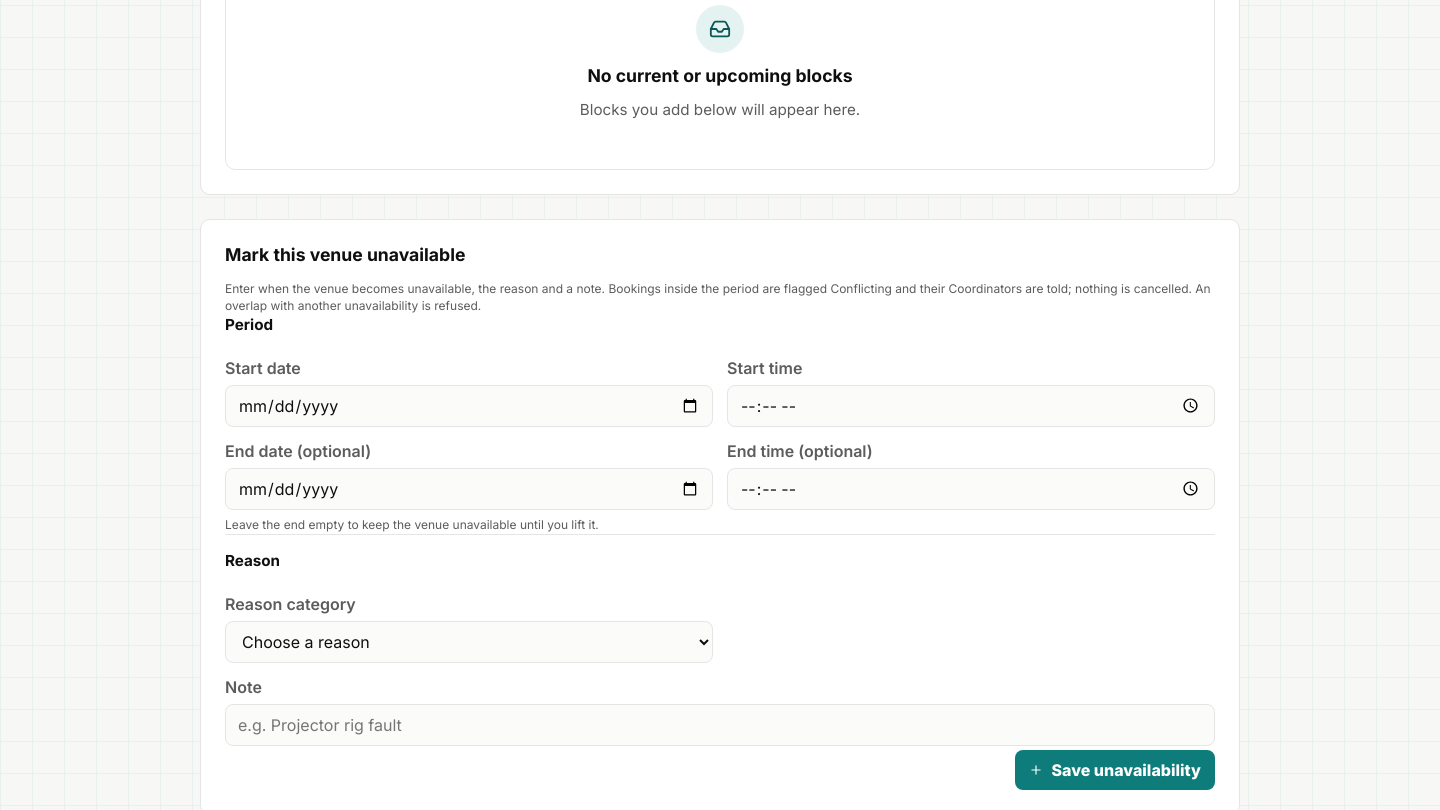
it: TC_E05S04_03 - the success alert shows which affected events had their Coordinator notified (Scenario 3)
(page scrolled)
Expected: the text "No current or upcoming blocks" is shown, [587,65,853,86]
Type "2027-01-20" into the date field labelled "Start date".
click(469, 406); type("2027-01-20")  # box [225,385,713,427]
Type "00:00" into the time field labelled "Start time".
click(971, 406); type("00:00")  # box [727,385,1215,427]
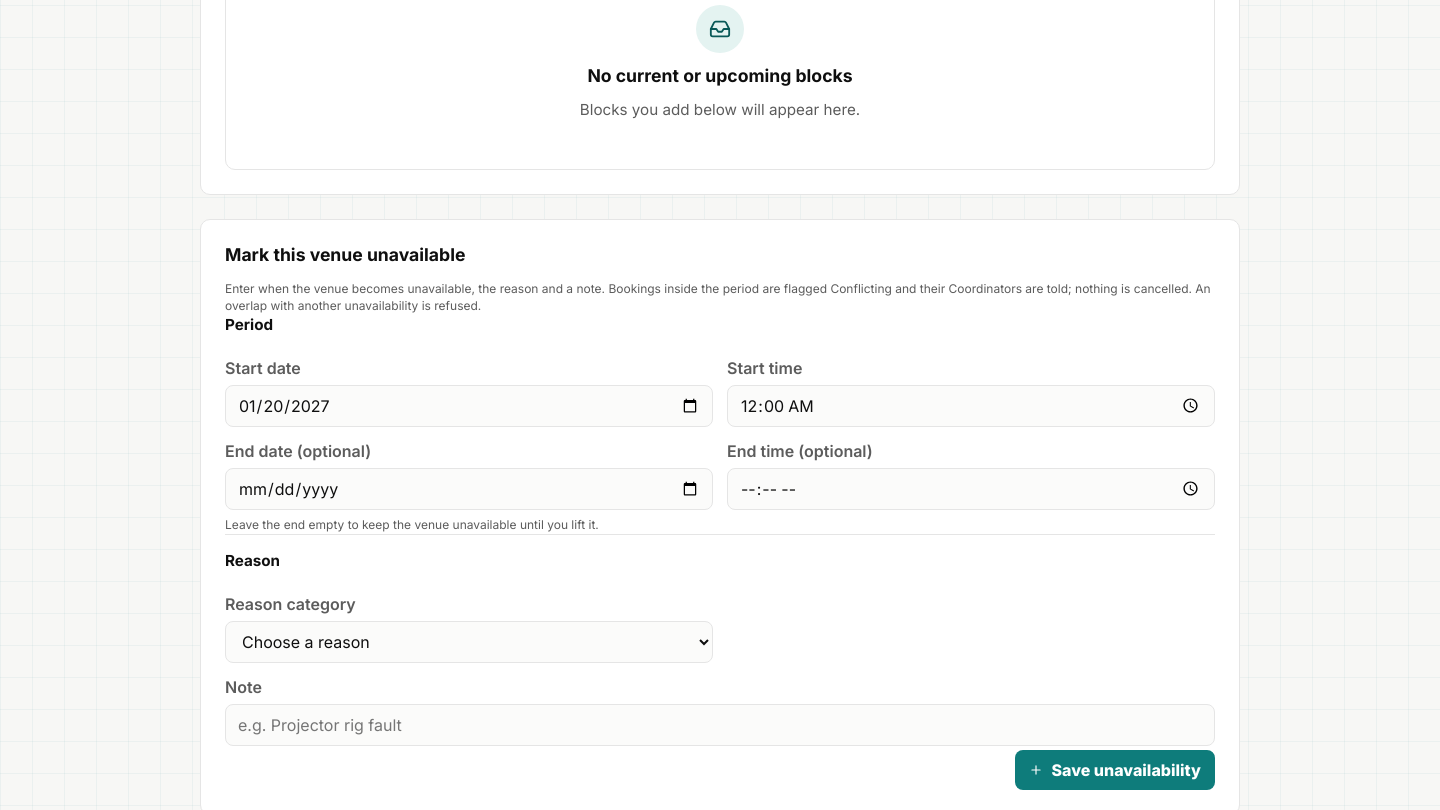
Type "2027-01-26" into the date field labelled "End date (optional)".
click(469, 489); type("2027-01-26")  # box [225,468,713,510]
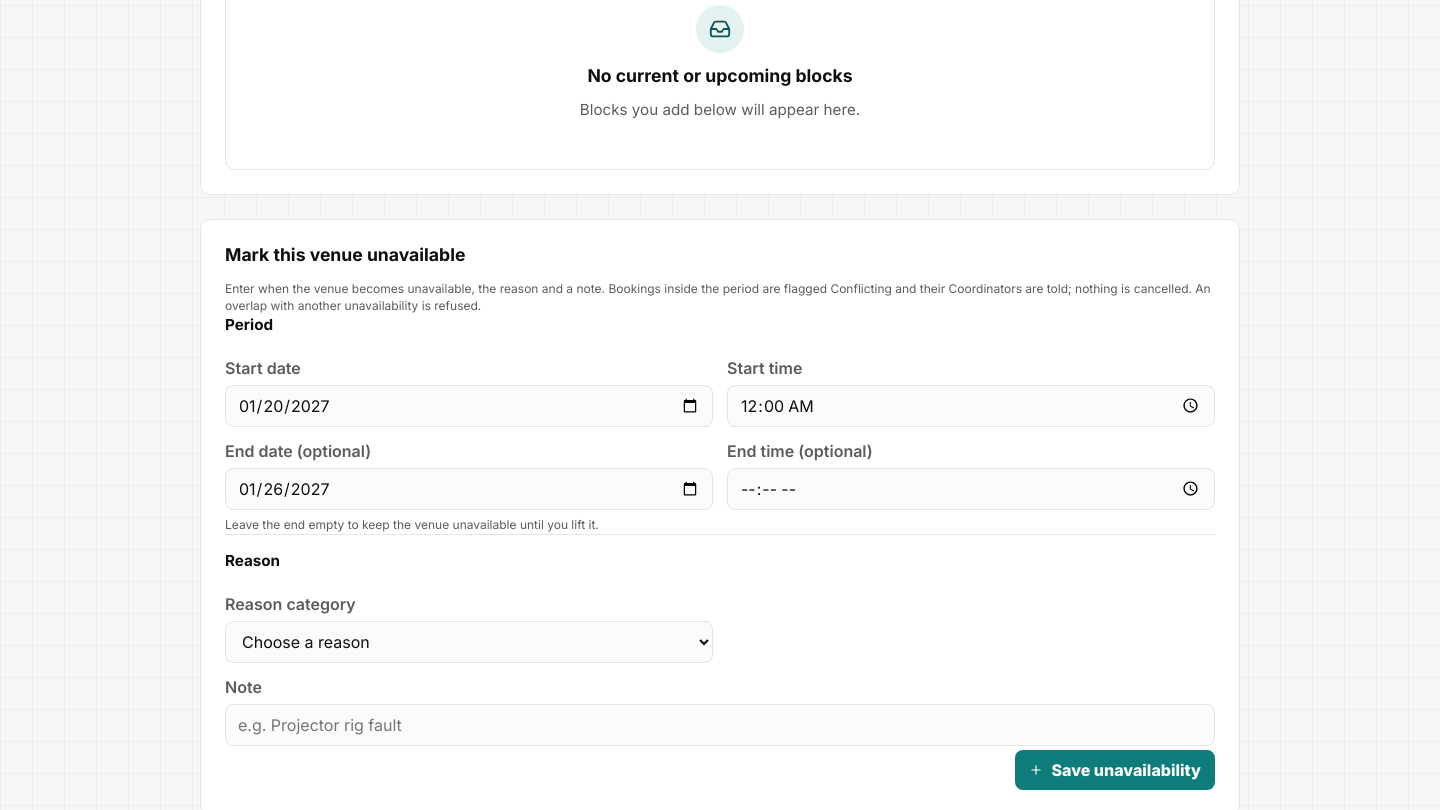
Type "00:00" into the time field labelled "End time (optional)".
click(971, 489); type("00:00")  # box [727,468,1215,510]
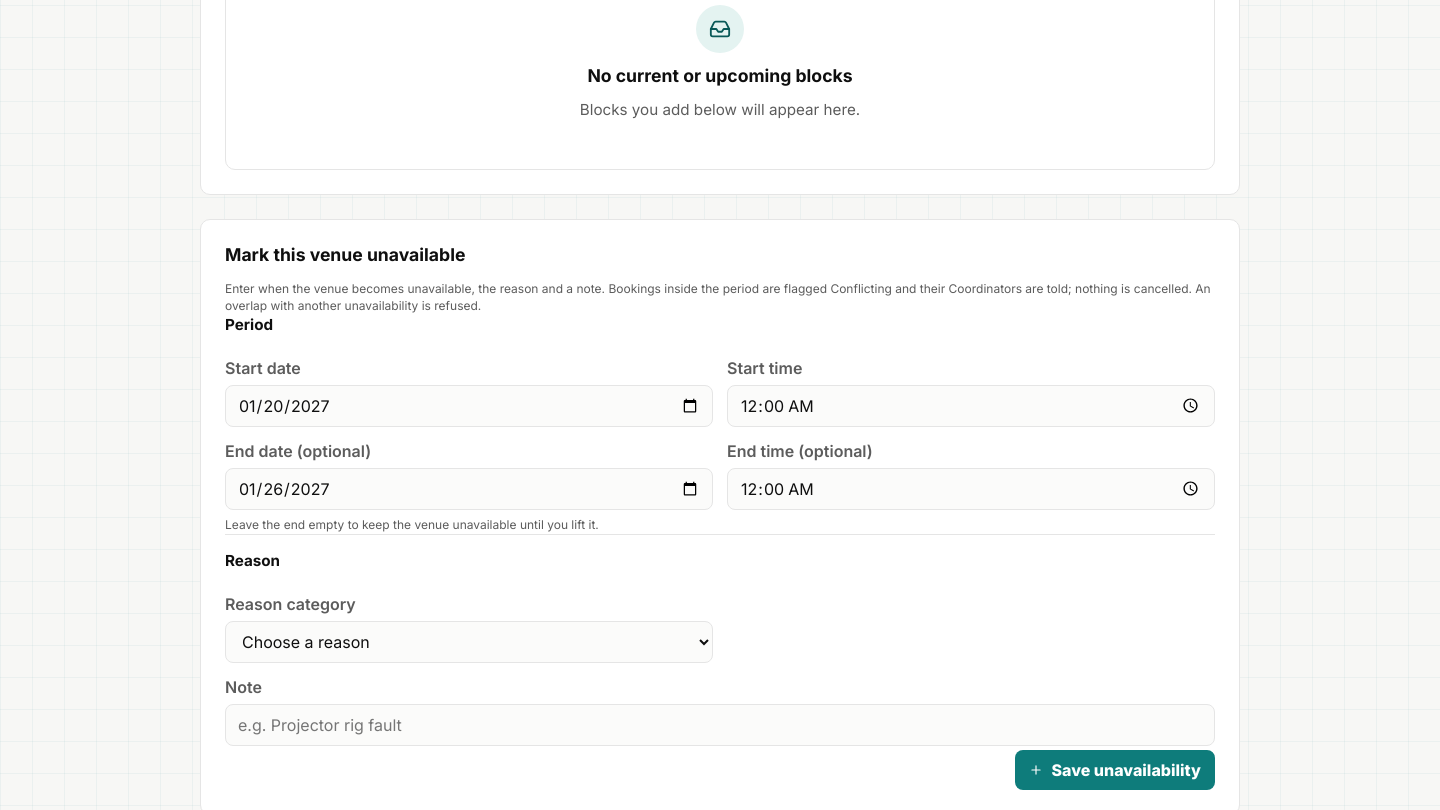
Select "Renovation" in the dropdown labelled "Reason category" at (469, 642), box [225,620,713,662]
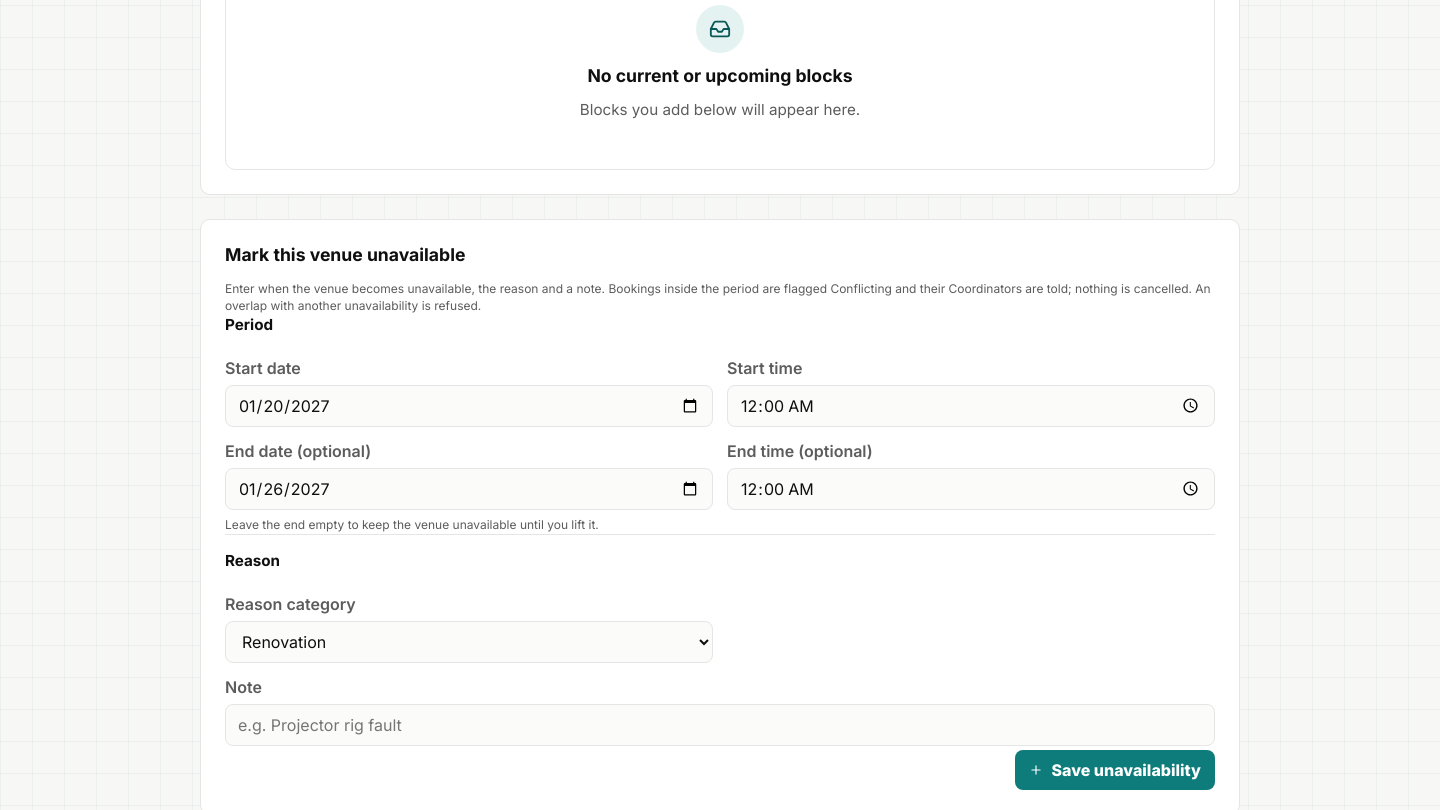
Type "Renovation" into the field labelled "Note".
click(720, 724); type("Renovation")  # box [225,704,1215,746]
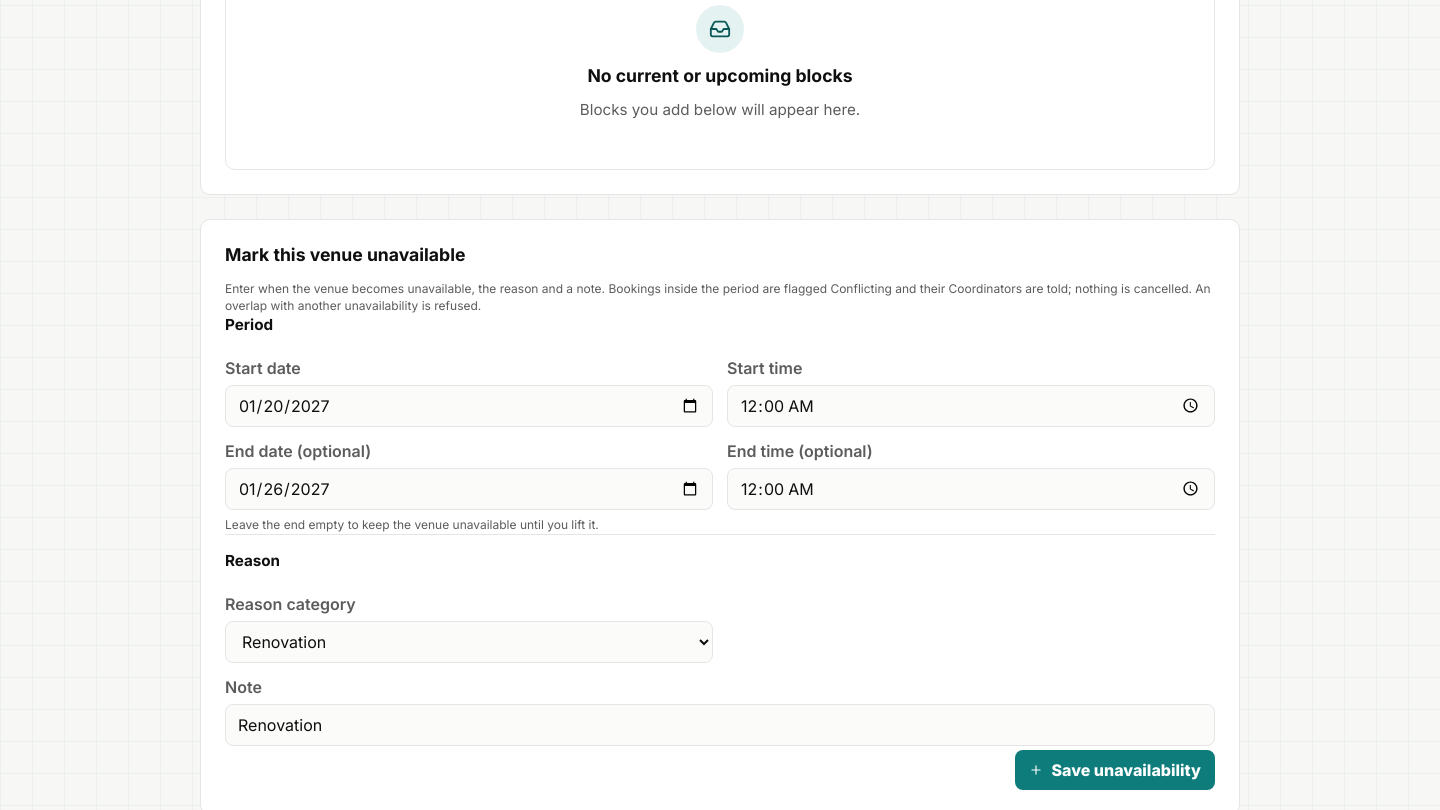
Click the button "Save unavailability".
click(1115, 770)  # box [1016,750,1215,790]
(page scrolled)
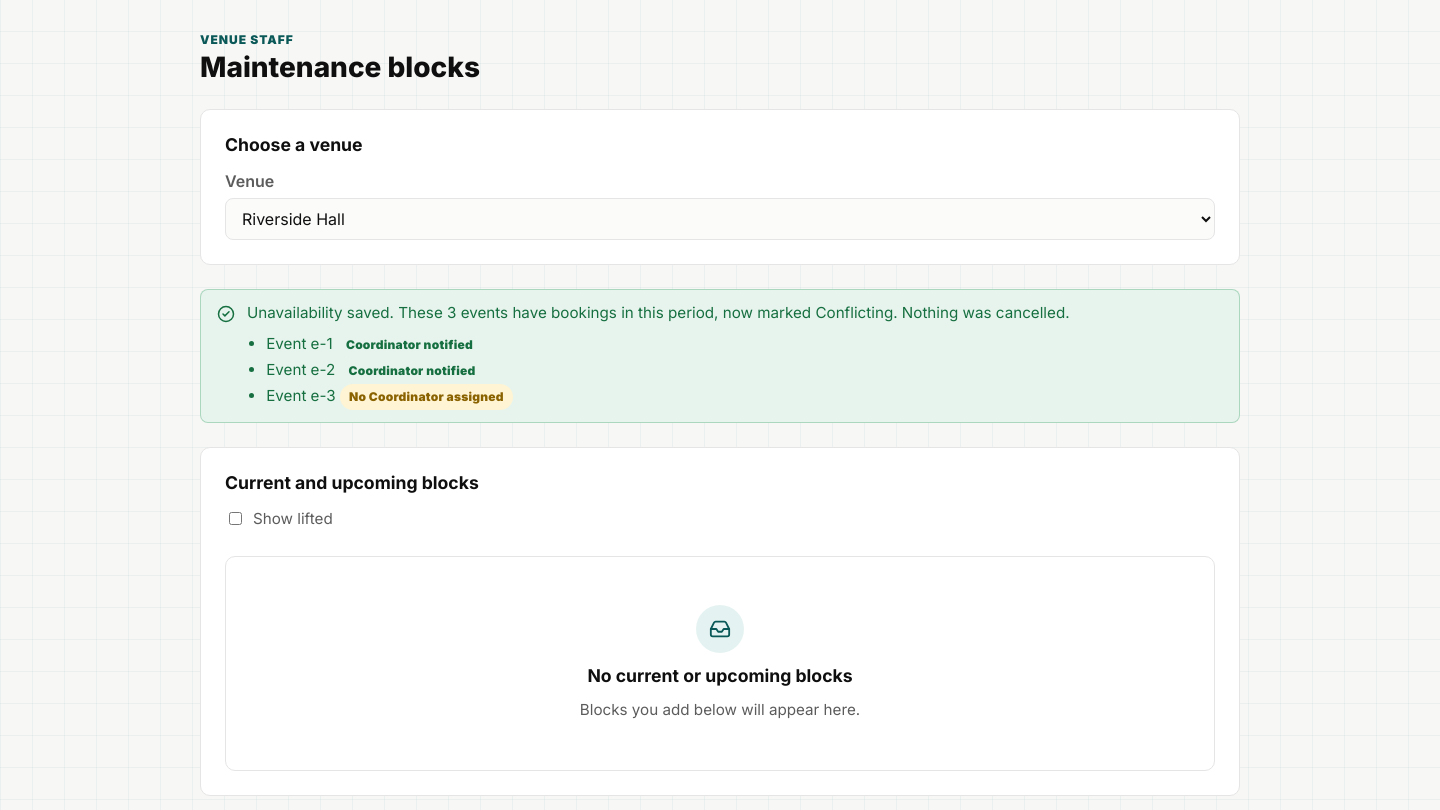
Expected: the text "These 3 events have bookings in this period" is shown, [247,303,1070,322]
